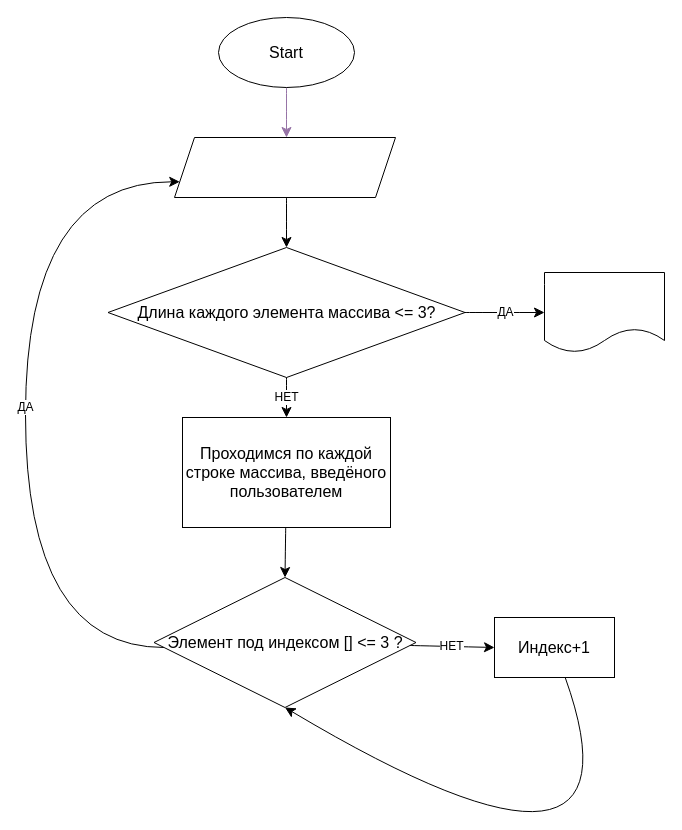
The diagram is 682 pixels wide and 830 high, and some of its shapes have lost their labels. Here are the shapes that lost their labels. From the top down, the centre of each, then its label:
At pixel 285 167: "Дан массив из n кол-во строк".
At pixel 604 312: "Вывод данных".
